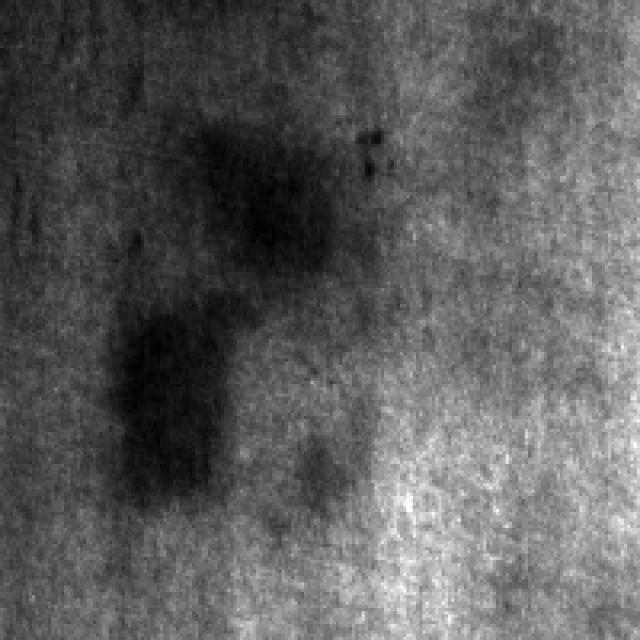patches: (115, 292, 266, 502), (204, 112, 346, 262)
